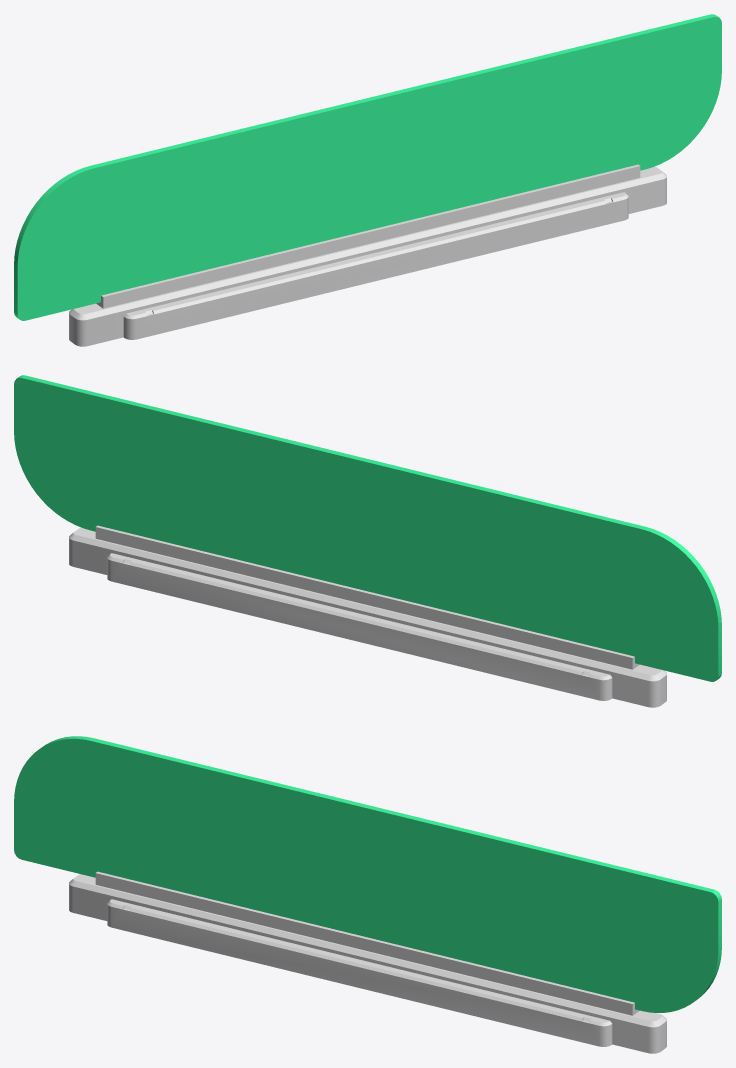
Rendered from SM_MOD_Laser_Floater_WallGlass_03.fbx.
3 views of the same model, one above another, from view 1: azimuth 30°, elevation 25°; view 2: azimuth 150°, elevation 25°; view 3: azimuth 330°, elevation 25° (orthographic).
Parts seen in each view (by area): view 1: SM_MOD_Laser_Floater_WallGlass_03_LOD0; view 2: SM_MOD_Laser_Floater_WallGlass_03_LOD0; view 3: SM_MOD_Laser_Floater_WallGlass_03_LOD0.
Boxes of the visible parts, box(x1,y1,x2,y2) form: SM_MOD_Laser_Floater_WallGlass_03_LOD0: box(14, 14, 721, 346); SM_MOD_Laser_Floater_WallGlass_03_LOD0: box(14, 375, 721, 707); SM_MOD_Laser_Floater_WallGlass_03_LOD0: box(14, 736, 721, 1053).
Size of what is drawn, in the model's own units: 458 by 106 by 28.24.
